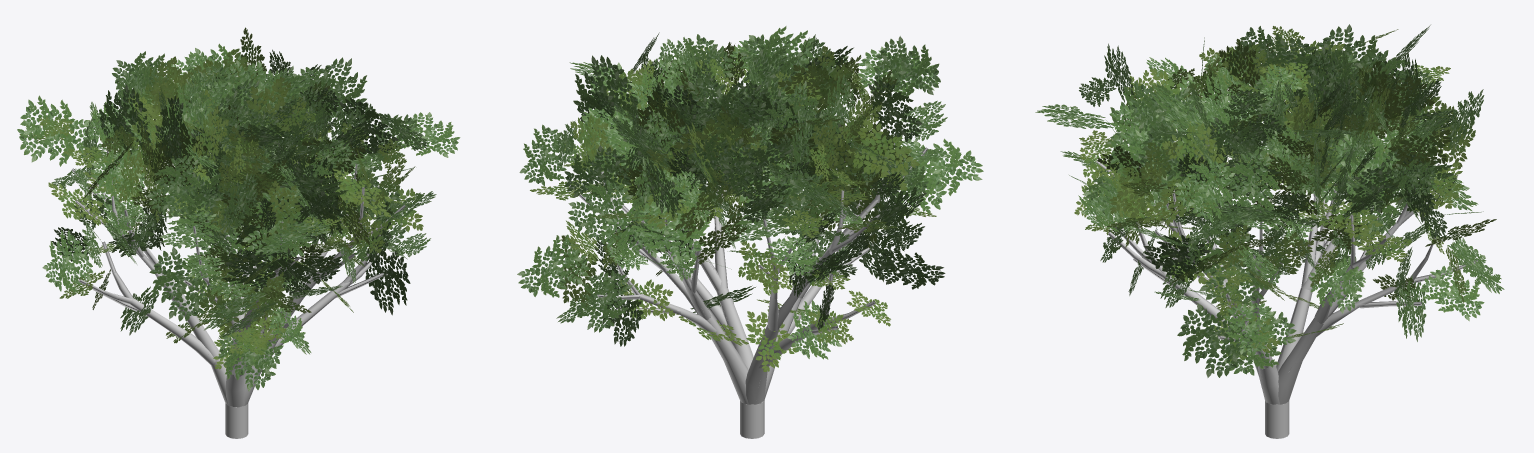
The model's file is Japanese_Angelica_Tree_Model_0.obj.
3 views of the same model, side by side, from view 1: azimuth 30°, elevation 25°; view 2: azimuth 150°, elevation 25°; view 3: azimuth 270°, elevation 25° (orthographic). The views are drawn at different scales.
Visible parts, largest first — view 1: Foliage__leafcard, Bark; view 2: Foliage__leafcard, Bark; view 3: Foliage__leafcard, Bark.
Boxes of the visible parts, left/top/right/bottom form: Foliage__leafcard: left=17, top=27, right=460, bottom=391; Bark: left=72, top=131, right=405, bottom=438; Foliage__leafcard: left=517, top=26, right=983, bottom=371; Bark: left=567, top=97, right=927, bottom=438; Foliage__leafcard: left=1035, top=24, right=1504, bottom=377; Bark: left=1096, top=124, right=1477, bottom=438.
Size of the model in its own units: 4.62 by 4 by 4.66.
